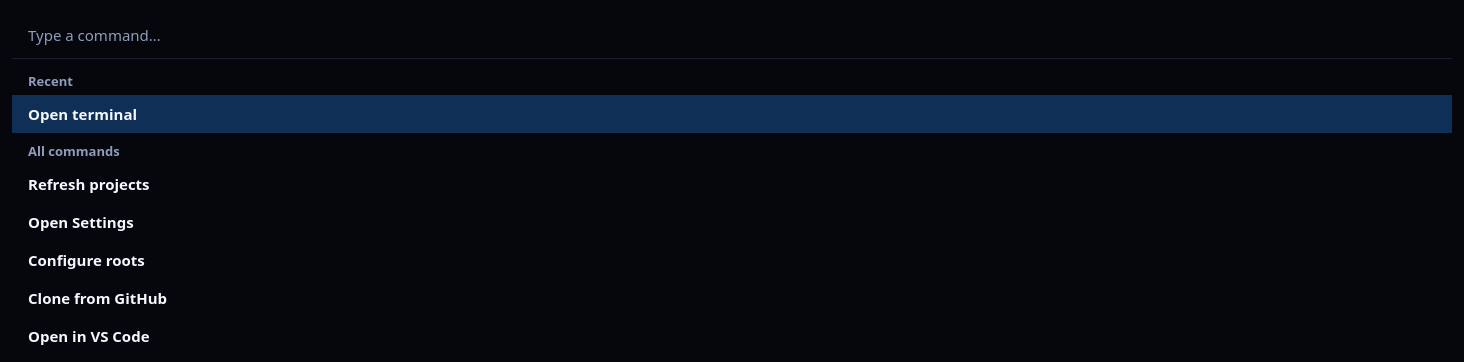
Test: CommandPalette — what typing does to the list › ranks by score, best first, and drops what does not match
Type "conf" into the field with placeholder "Type a command…" at [732, 36], box [12,12,1452,59]
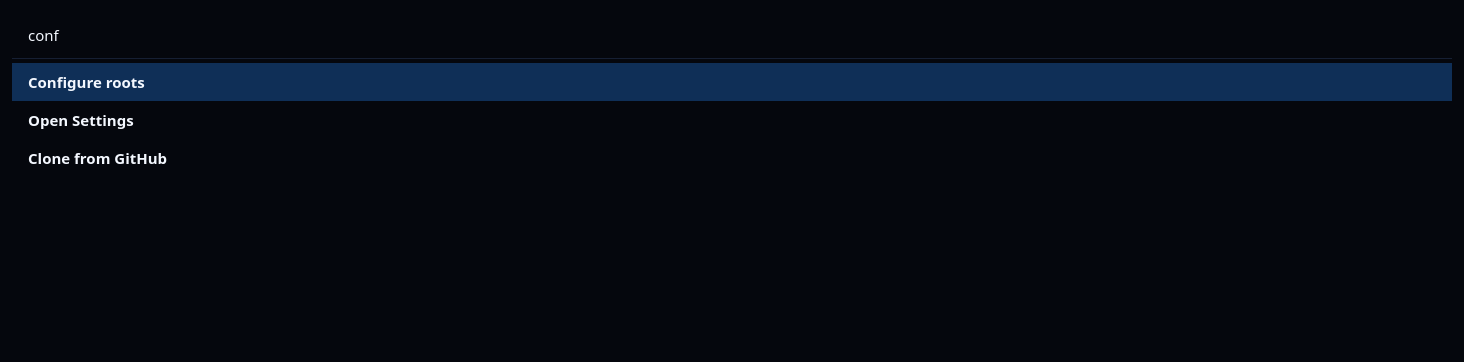
Expected: the text "Configure roots" is shown, [28,71,145,93]
Expected: the text "Recent" is gone
Expected: the text "All commands" is gone
